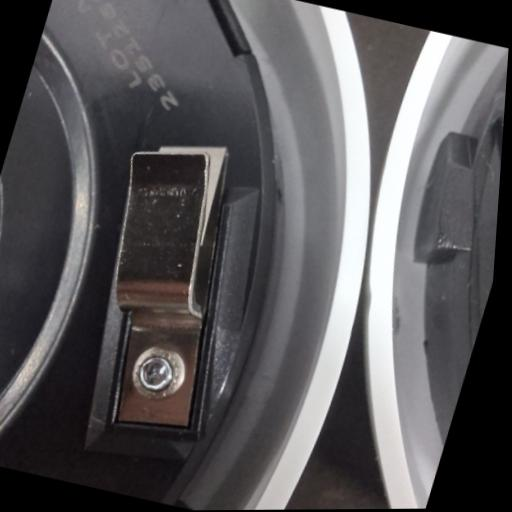yayli: (51, 133, 273, 446)
